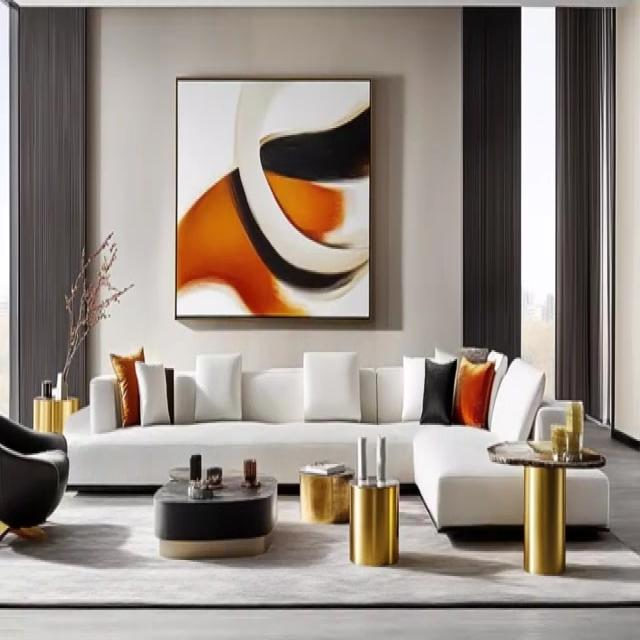obstacle: (61, 348, 588, 532), (487, 439, 606, 574), (156, 463, 276, 557), (0, 412, 69, 542)
